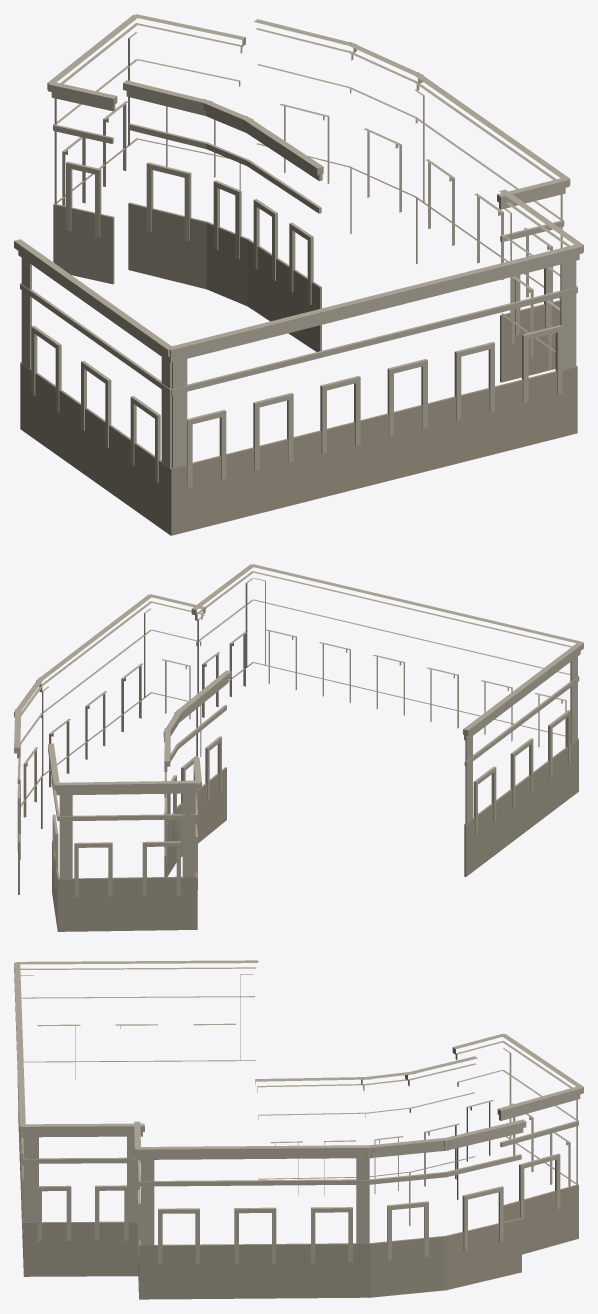
3 renders of one model, top to bottom at view 1: azimuth 30°, elevation 25°; view 2: azimuth 150°, elevation 25°; view 3: azimuth 270°, elevation 25°, orthographic. The views are drawn at different scales.
Parts seen in each view (by area): view 1: detail; view 2: detail; view 3: detail.
Boxes of the visible parts, x1,y1,x2,y2 form: detail: (14,14,583,535); detail: (14,564,583,931); detail: (14,960,583,1299).
Bounding box in the file's own units: 20.18 × 7.55 × 25.69.
